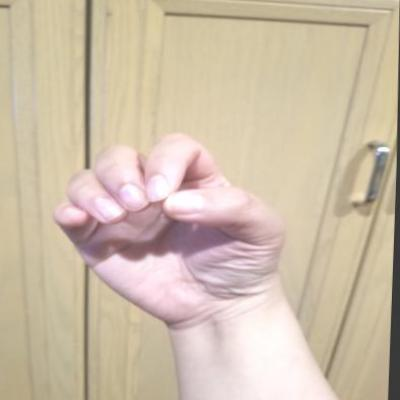hand: (46, 127, 299, 328)
